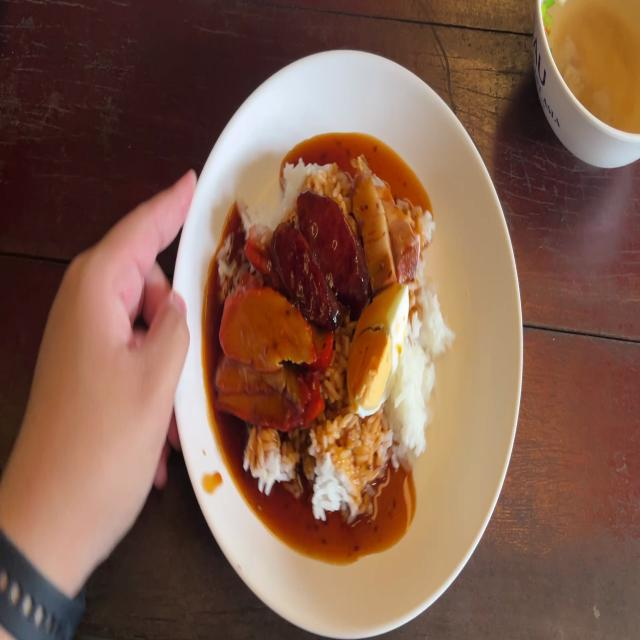01boiled_egg: (349, 288, 411, 413)
01chainese_sausage: (271, 190, 364, 318)
01crispy_pork: (352, 168, 420, 293)
01red_pork_and_crispy_pork: (222, 163, 452, 522), (218, 293, 309, 431)
01rice: (297, 407, 399, 519), (401, 302, 452, 439), (242, 432, 286, 493)
